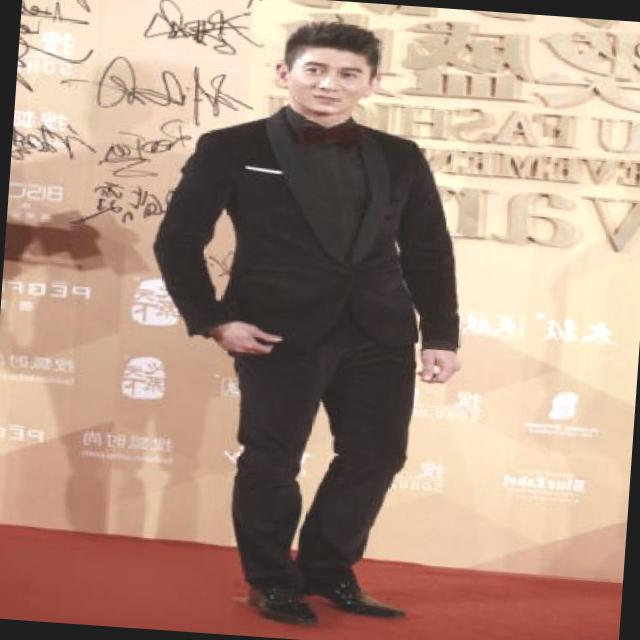Person: (162, 11, 477, 640)
